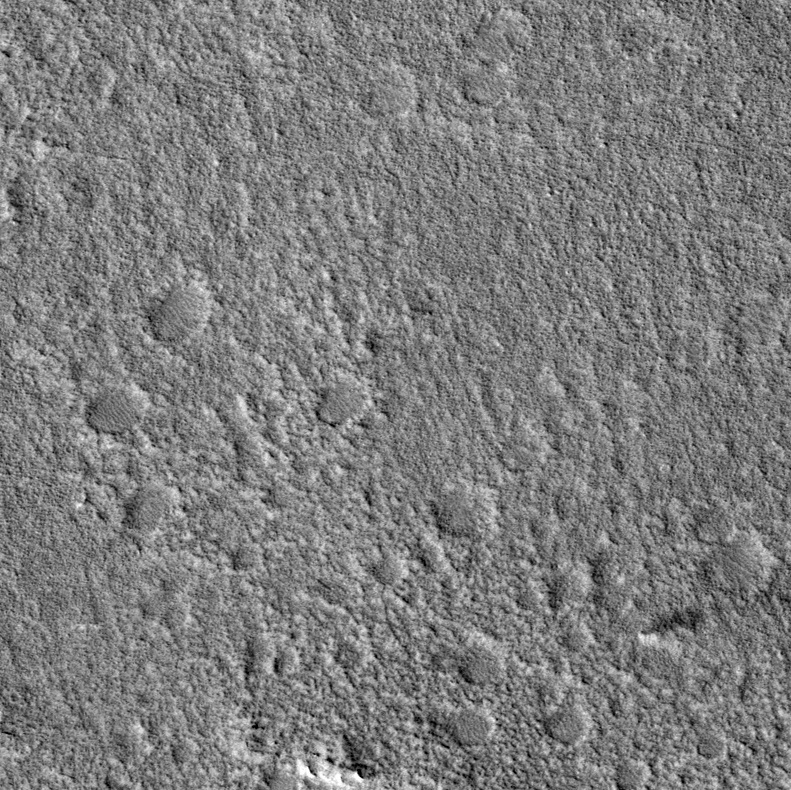dust_devil: (636, 607, 710, 651)
